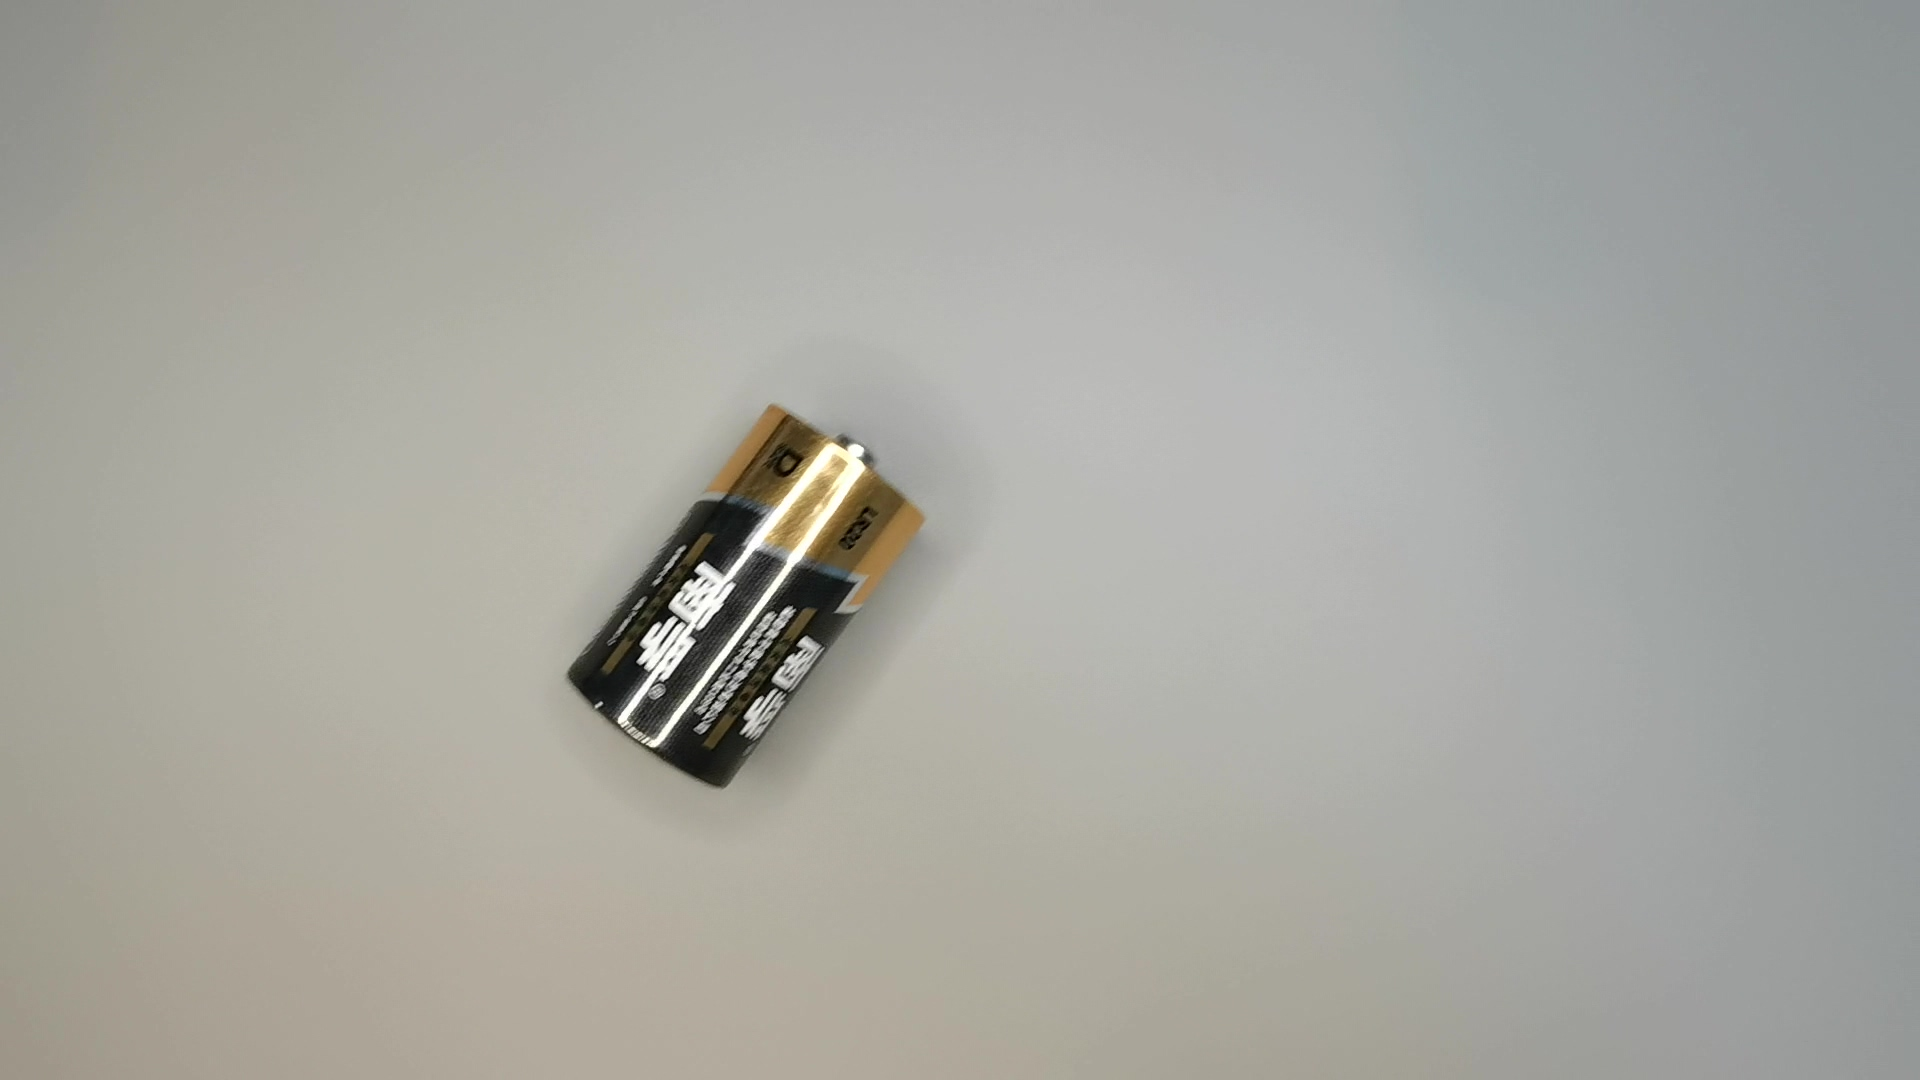battery: (567, 402, 934, 798)
